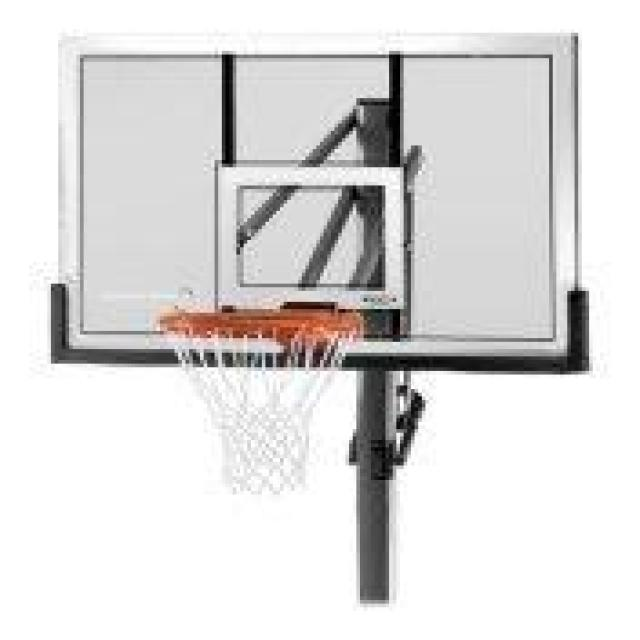hoop: (153, 266, 368, 502)
